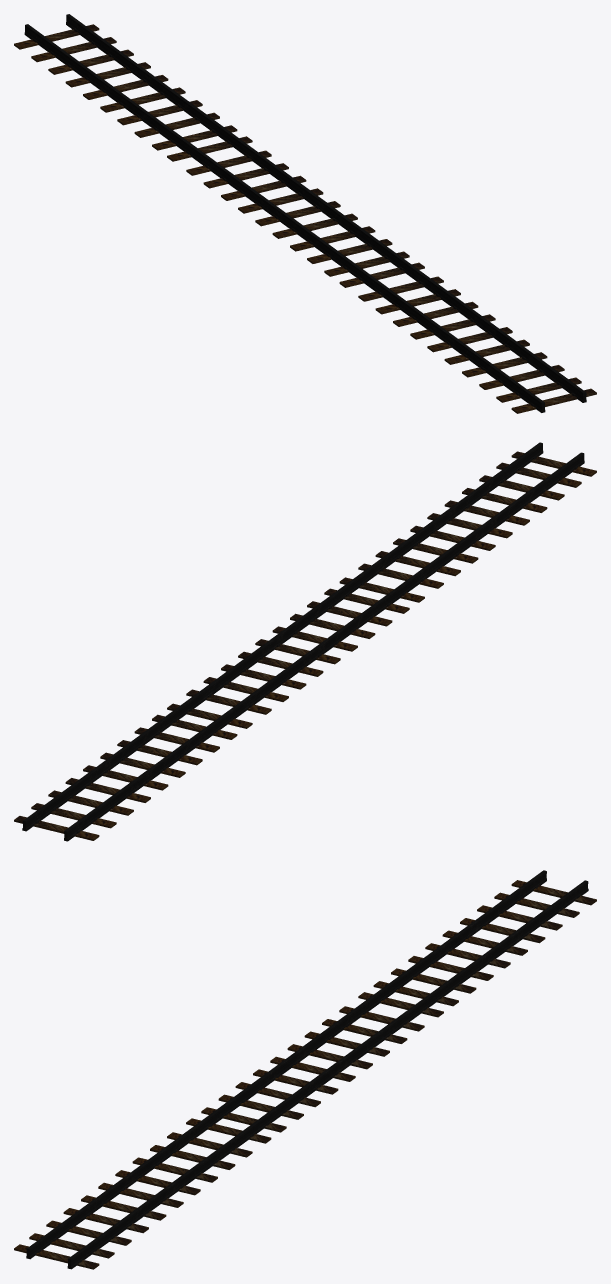
File: Train_track_.fbx
The picture shows the model from 3 angles, top to bottom: view 1: azimuth 30°, elevation 25°; view 2: azimuth 150°, elevation 25°; view 3: azimuth 330°, elevation 25°; orthographic projection.
Parts seen in each view (by area): view 1: polySurface296; view 2: polySurface296; view 3: polySurface296.
Part boxes in pixels (x1=…): polySurface296: x1=14, y1=14, x2=596, y2=413; polySurface296: x1=14, y1=442, x2=596, y2=841; polySurface296: x1=14, y1=870, x2=596, y2=1269.
Size of the model in its own units: 181 by 23.21 by 2039.
1 material, 1 textured.
